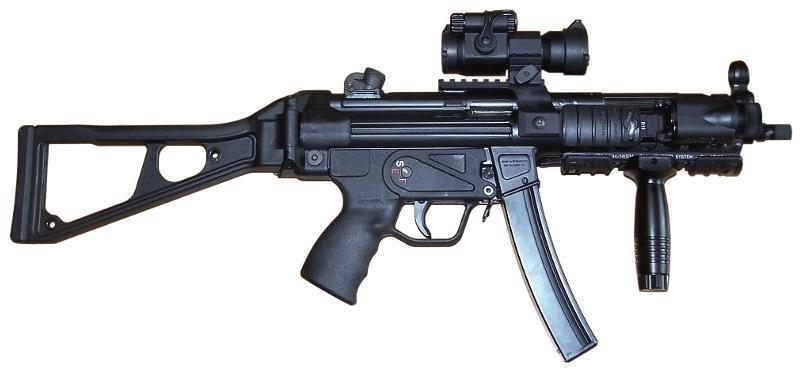gun: (5, 5, 791, 354)
